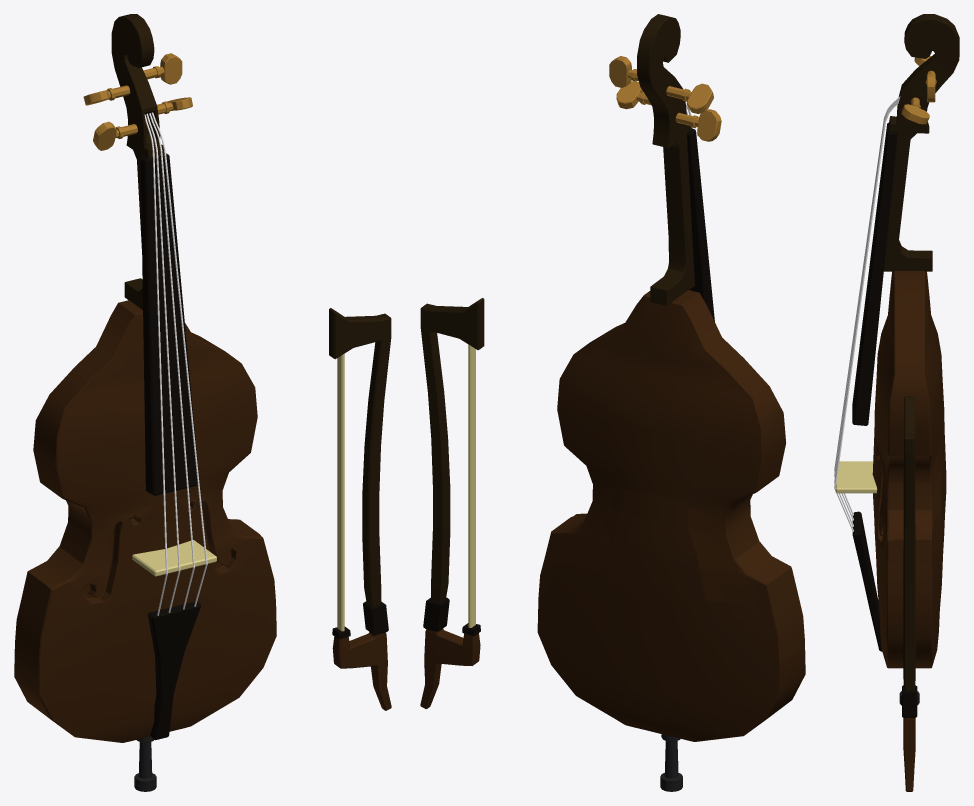
Rendered from double bass (1).fbx.
3 views of the same model, side by side, from view 1: azimuth 30°, elevation 25°; view 2: azimuth 150°, elevation 25°; view 3: azimuth 270°, elevation 25° (orthographic). The views are drawn at different scales.
Visible parts, largest first — view 1: c_md:pCube11; view 2: c_md:pCube11; view 3: c_md:pCube11.
Boxes of the visible parts, x1,y1,x2,y2 form: c_md:pCube11: [14, 14, 391, 791]; c_md:pCube11: [420, 14, 805, 791]; c_md:pCube11: [834, 14, 959, 791].
Size of the model in its own units: 1.6 by 3.19 by 0.5293.
